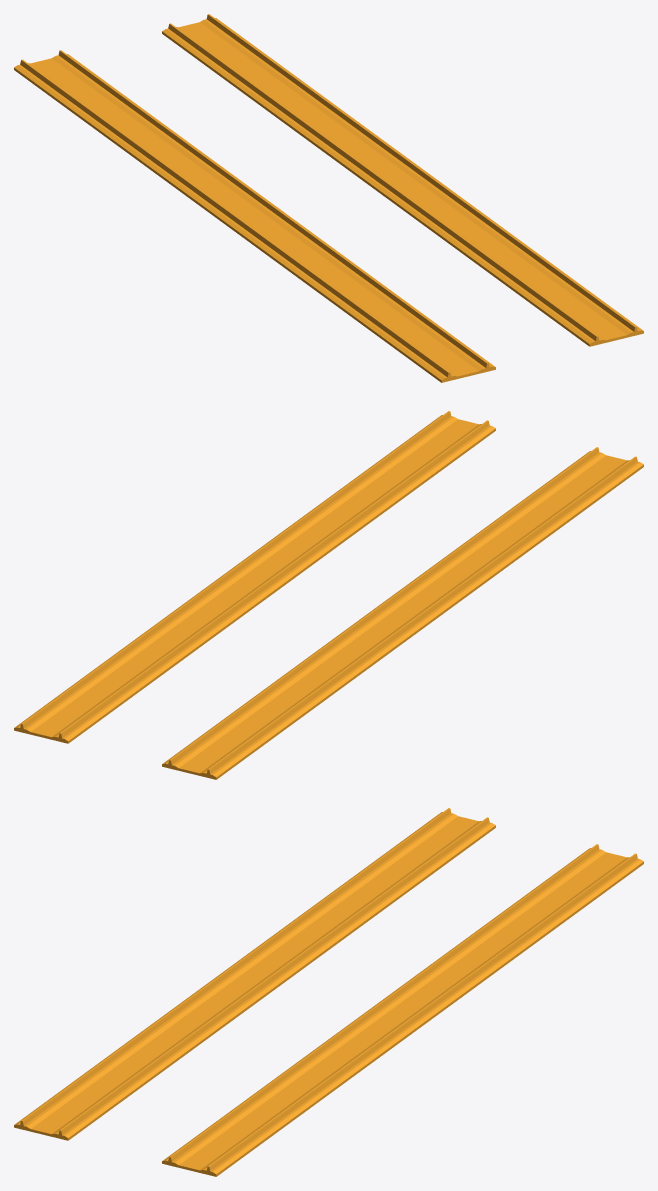
Rendered from SM_Train_Rail_Straight_Double_Collider.fbx.
The picture shows the model from 3 angles, top to bottom: view 1: azimuth 30°, elevation 25°; view 2: azimuth 150°, elevation 25°; view 3: azimuth 330°, elevation 25°; orthographic projection.
Parts seen in each view (by area): view 1: SM_Train_Rail_Straight_Double_Collider; view 2: SM_Train_Rail_Straight_Double_Collider; view 3: SM_Train_Rail_Straight_Double_Collider.
Part boxes in pixels (x1,y1,x2,y2): SM_Train_Rail_Straight_Double_Collider: (14,14,643,382); SM_Train_Rail_Straight_Double_Collider: (14,411,643,779); SM_Train_Rail_Straight_Double_Collider: (14,808,643,1176).
Bounding box in the file's own units: 8.2 × 0.3232 × 30.
